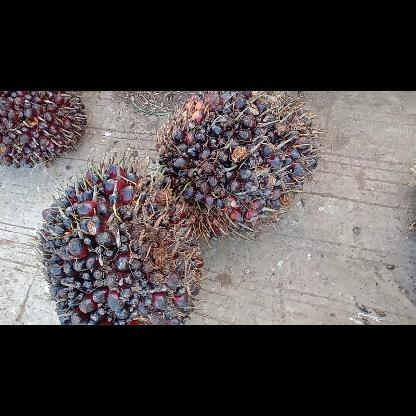TBS mentah: (39, 162, 203, 324), (155, 91, 318, 235), (0, 91, 86, 167)
